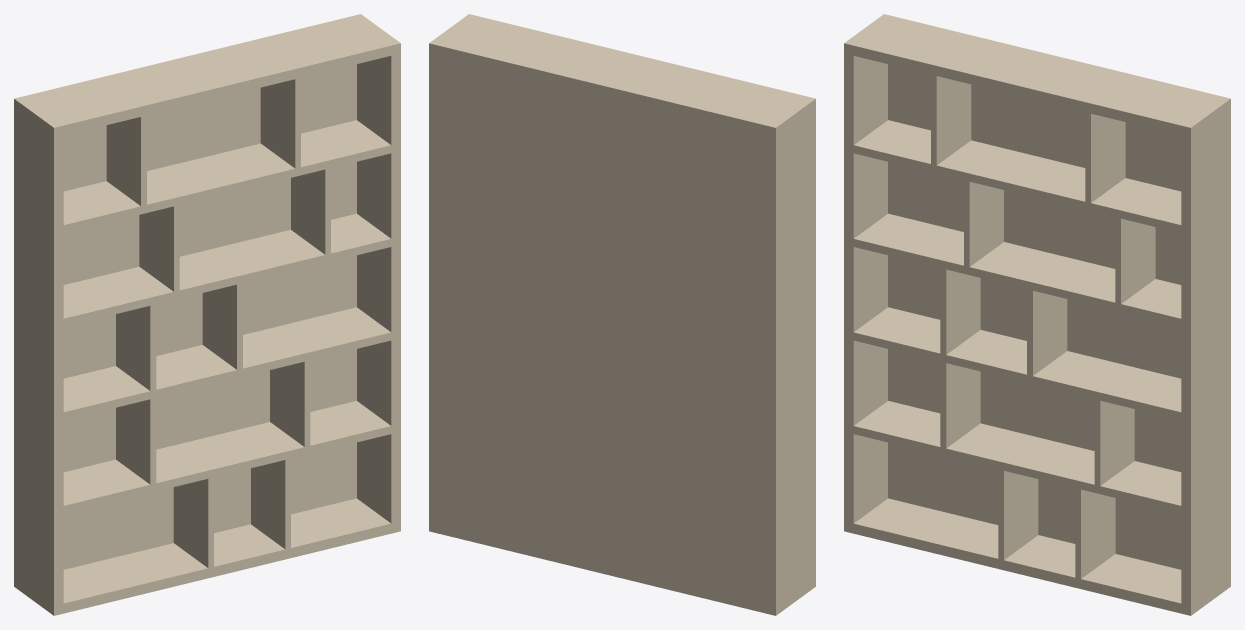
The picture shows the model from 3 angles, left to right: view 1: azimuth 30°, elevation 25°; view 2: azimuth 150°, elevation 25°; view 3: azimuth 330°, elevation 25°; orthographic projection.
Parts seen in each view (by area): view 1: body; view 2: body; view 3: body.
Part boxes in pixels (left/top/right/bottom): body: left=14, top=14, right=400, bottom=615; body: left=429, top=14, right=815, bottom=615; body: left=844, top=14, right=1230, bottom=615.
Size of the model in its own units: 0.9 by 1.21 by 0.18.
